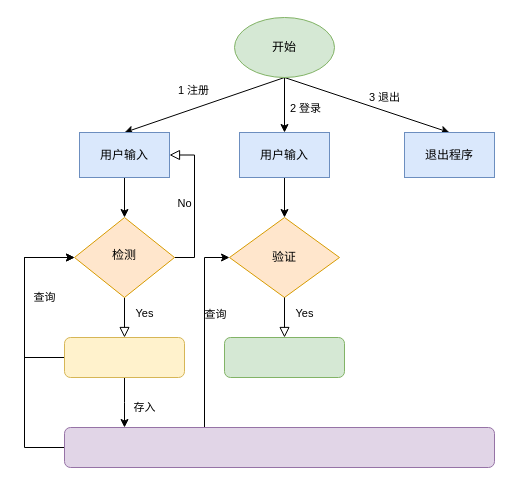
The diagram is 512 pixels wide and 485 high, and some of its shapes have lost their labels. The centre of each missing label's shape, as x and y in pixels:
"字典" goes at (x=124, y=357).
"数据库" goes at (x=279, y=447).
"登录成功" goes at (x=284, y=357).
